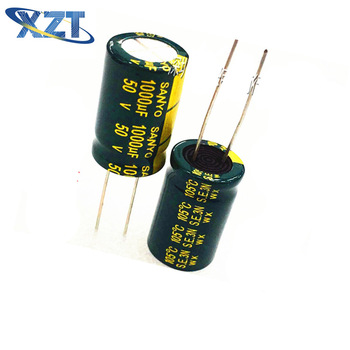capacitor: (144, 121, 250, 294), (96, 16, 188, 215)
